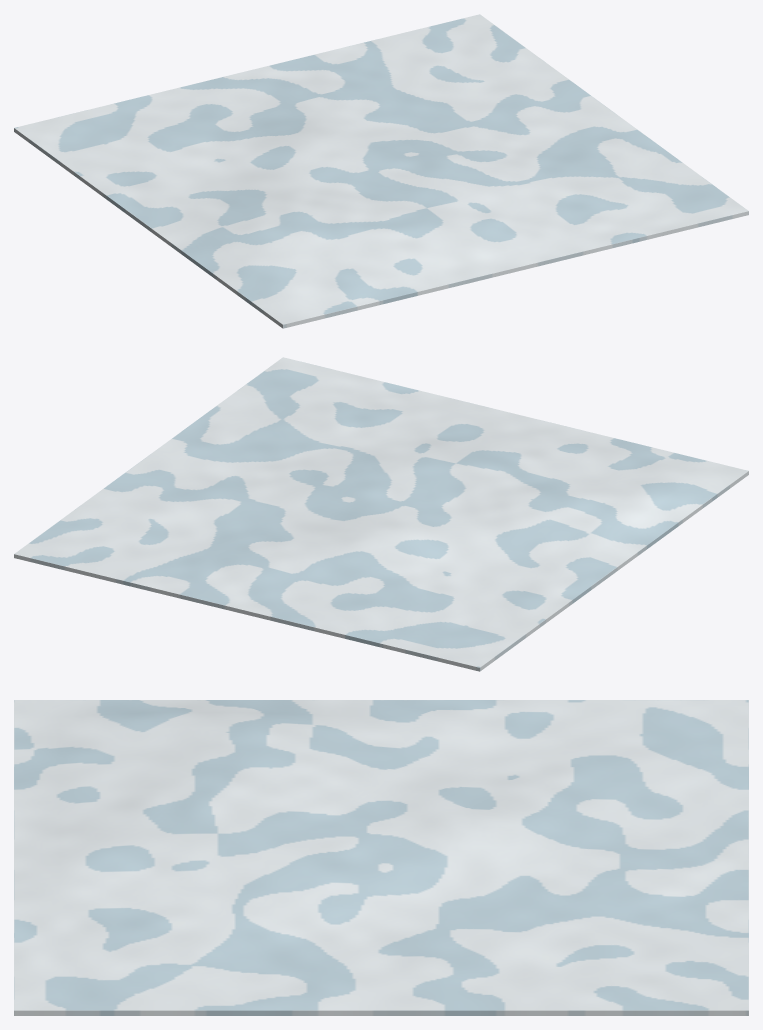
File: Snow_Flat_04.obj
3 views of the same model, one above another, from view 1: azimuth 30°, elevation 25°; view 2: azimuth 150°, elevation 25°; view 3: azimuth 270°, elevation 25° (orthographic). The views are drawn at different scales.
Size of the model in its own units: 10 by 0.2983 by 10.
1 material, 1 textured.
